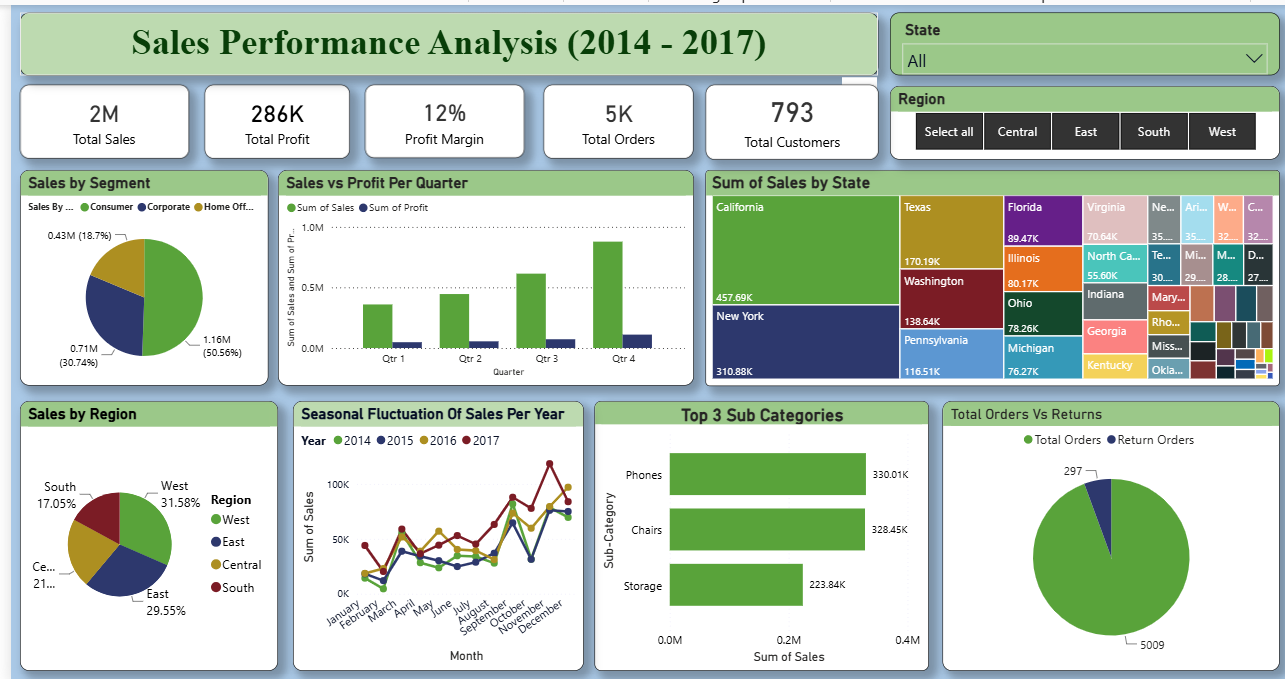

This screenshot's page, from the dashboard's own definition file:
{"tool":"powerbi","page":{"name":"Page 1","canvas":[1500,800],"ordinal":0},"visuals":[{"type":"pieChart","title":"Sales by Region","fields":{"Category":["Orders.Region"],"Y":["Sum(Orders.Sales)"]},"box":[10.6,466.6,304,318.1],"z":0},{"type":"barChart","title":"Top 3 Sub Categories","fields":{"Category":["Orders.Sub-Category"],"Y":["Sum(Orders.Sales)"]},"box":[687.5,466.6,394.1,318.1],"z":1000},{"type":"advanceCardE03760C5AB684758B56AA29F9E6C257B","fields":{"mainMeasure":["Sum(Orders.Sales)"]},"box":[11.3,93.9,199.2,87.4],"z":2000},{"type":"advanceCardE03760C5AB684758B56AA29F9E6C257B","fields":{"mainMeasure":["Sum(Orders.Profit)"]},"box":[228.3,93.9,171.6,87.4],"z":3000},{"type":"textbox","box":[10.6,8.9,1011.4,74.5],"z":8000},{"type":"slicer","fields":{"Values":["Orders.State"]},"box":[1035.7,8.8,459.5,74.2],"z":9000},{"type":"advanceCardE03760C5AB684758B56AA29F9E6C257B","fields":{"mainMeasure":["Orders.Profit Margin"],"tooltipMeasures":["Orders.Revenue"]},"box":[417,94,188.1,86.9],"z":11000},{"type":"advanceCardE03760C5AB684758B56AA29F9E6C257B","fields":{"mainMeasure":["Count(Orders.Order ID)"]},"box":[626.6,93.9,176.5,87.4],"z":12000},{"type":"lineChart","title":"Seasonal Fluctuation Of Sales Per Year","fields":{"Y":["Sum(Orders.Sales)"],"Category":["Orders.Order Date.Variation.Date Hierarchy.Month"],"Series":["Orders.Order Date.Variation.Date Hierarchy.Year"]},"box":[332.3,466.6,342.9,318.1],"z":13000},{"type":"pieChart","title":"Sales by Segment","fields":{"Y":["Sum(Orders.Sales)"],"Category":["Orders.Segment"]},"box":[10.6,195.2,292.8,253.7],"z":13001},{"type":"clusteredColumnChart","title":"Sales vs Profit Per Quarter","fields":{"Y":["Sum(Orders.Sales)","Sum(Orders.Profit)"],"Category":["Orders.Order Date.Variation.Date Hierarchy.Quarter"]},"box":[314.1,195.2,489.8,253.7],"z":13002},{"type":"pieChart","title":"Total Orders Vs Returns","fields":{"Y":["Count(Orders.Order ID)","CountNonNull(Returns.Column2)"]},"box":[1097.5,466.6,397.7,318.1],"z":13003},{"type":"treemap","fields":{"Group":["Orders.State"],"Values":["Sum(Orders.Sales)"]},"box":[818.3,194.4,676.9,254.5],"z":13004},{"type":"slicer","title":"Region","fields":{"Values":["Orders.Region"]},"box":[1036.3,95.8,459.6,86.9],"z":13005},{"type":"advanceCardE03760C5AB684758B56AA29F9E6C257B","fields":{"mainMeasure":["Count(Orders.Customer ID)"]},"box":[818,94,204.1,88.7],"z":13006}]}

Visuals, with their boxes in screenshot pixels (x1, y1, x2, y2), scaled from the page's 1500x800 canvas onto the 1285x679 screenshot:
"Sales by Region" pieChart: bbox=[9, 396, 270, 666]
"Top 3 Sub Categories" barChart: bbox=[589, 396, 927, 666]
advanceCardE03760C5AB684758B56AA29F9E6C257B - Sum(Orders.Sales): bbox=[10, 80, 180, 154]
advanceCardE03760C5AB684758B56AA29F9E6C257B - Sum(Orders.Profit): bbox=[196, 80, 343, 154]
textbox: bbox=[9, 8, 876, 71]
slicer - Orders.State: bbox=[887, 7, 1281, 70]
advanceCardE03760C5AB684758B56AA29F9E6C257B - Orders.Profit Margin x Orders.Revenue: bbox=[357, 80, 518, 154]
advanceCardE03760C5AB684758B56AA29F9E6C257B - Count(Orders.Order ID): bbox=[537, 80, 688, 154]
"Seasonal Fluctuation Of Sales Per Year" lineChart: bbox=[285, 396, 578, 666]
"Sales by Segment" pieChart: bbox=[9, 166, 260, 381]
"Sales vs Profit Per Quarter" clusteredColumnChart: bbox=[269, 166, 689, 381]
"Total Orders Vs Returns" pieChart: bbox=[940, 396, 1281, 666]
treemap - Orders.State x Sum(Orders.Sales): bbox=[701, 165, 1281, 381]
"Region" slicer: bbox=[888, 81, 1281, 155]
advanceCardE03760C5AB684758B56AA29F9E6C257B - Count(Orders.Customer ID): bbox=[701, 80, 876, 155]
